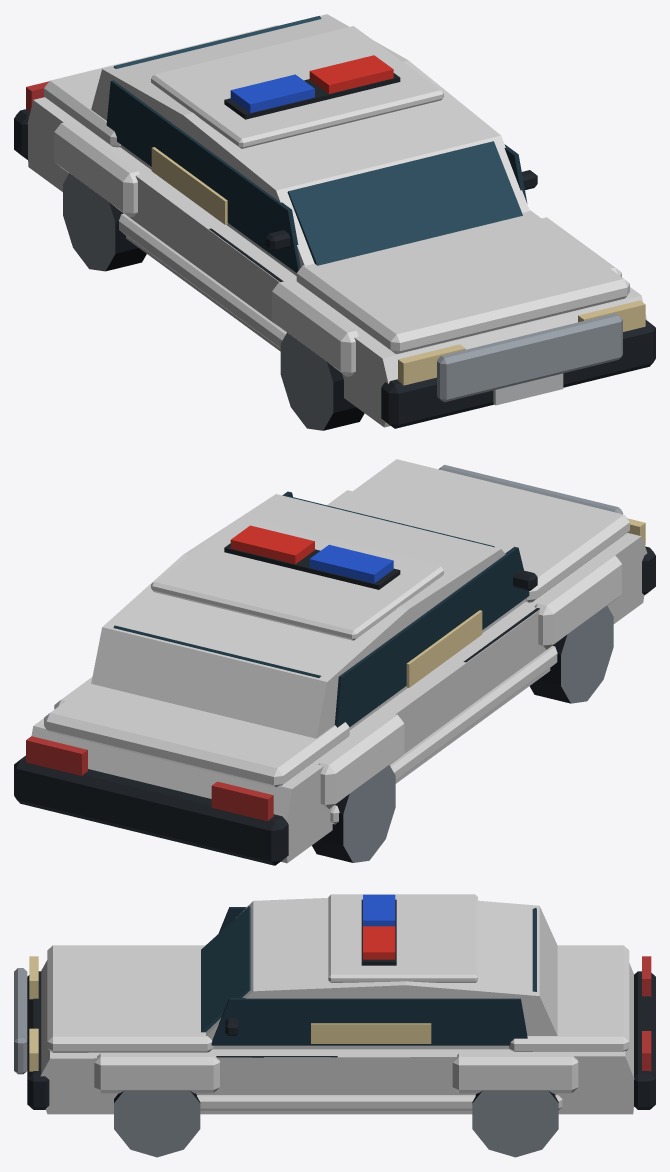
The model's file is car_police_lod0.glb.
3 renders of one model, top to bottom at view 1: azimuth 30°, elevation 25°; view 2: azimuth 150°, elevation 25°; view 3: azimuth 270°, elevation 25°, orthographic. The views are drawn at different scales.
Visible parts, largest first — view 1: paint, trim; view 2: paint, trim; view 3: paint, trim.
Boxes of the visible parts, bbox=[...] form: paint: bbox=[27, 14, 647, 427]; trim: bbox=[14, 16, 655, 430]; paint: bbox=[31, 459, 647, 863]; trim: bbox=[14, 464, 655, 865]; paint: bbox=[40, 894, 634, 1114]; trim: bbox=[14, 894, 655, 1157].
Size of the model in its own units: 2 by 1.47 by 4.8.
